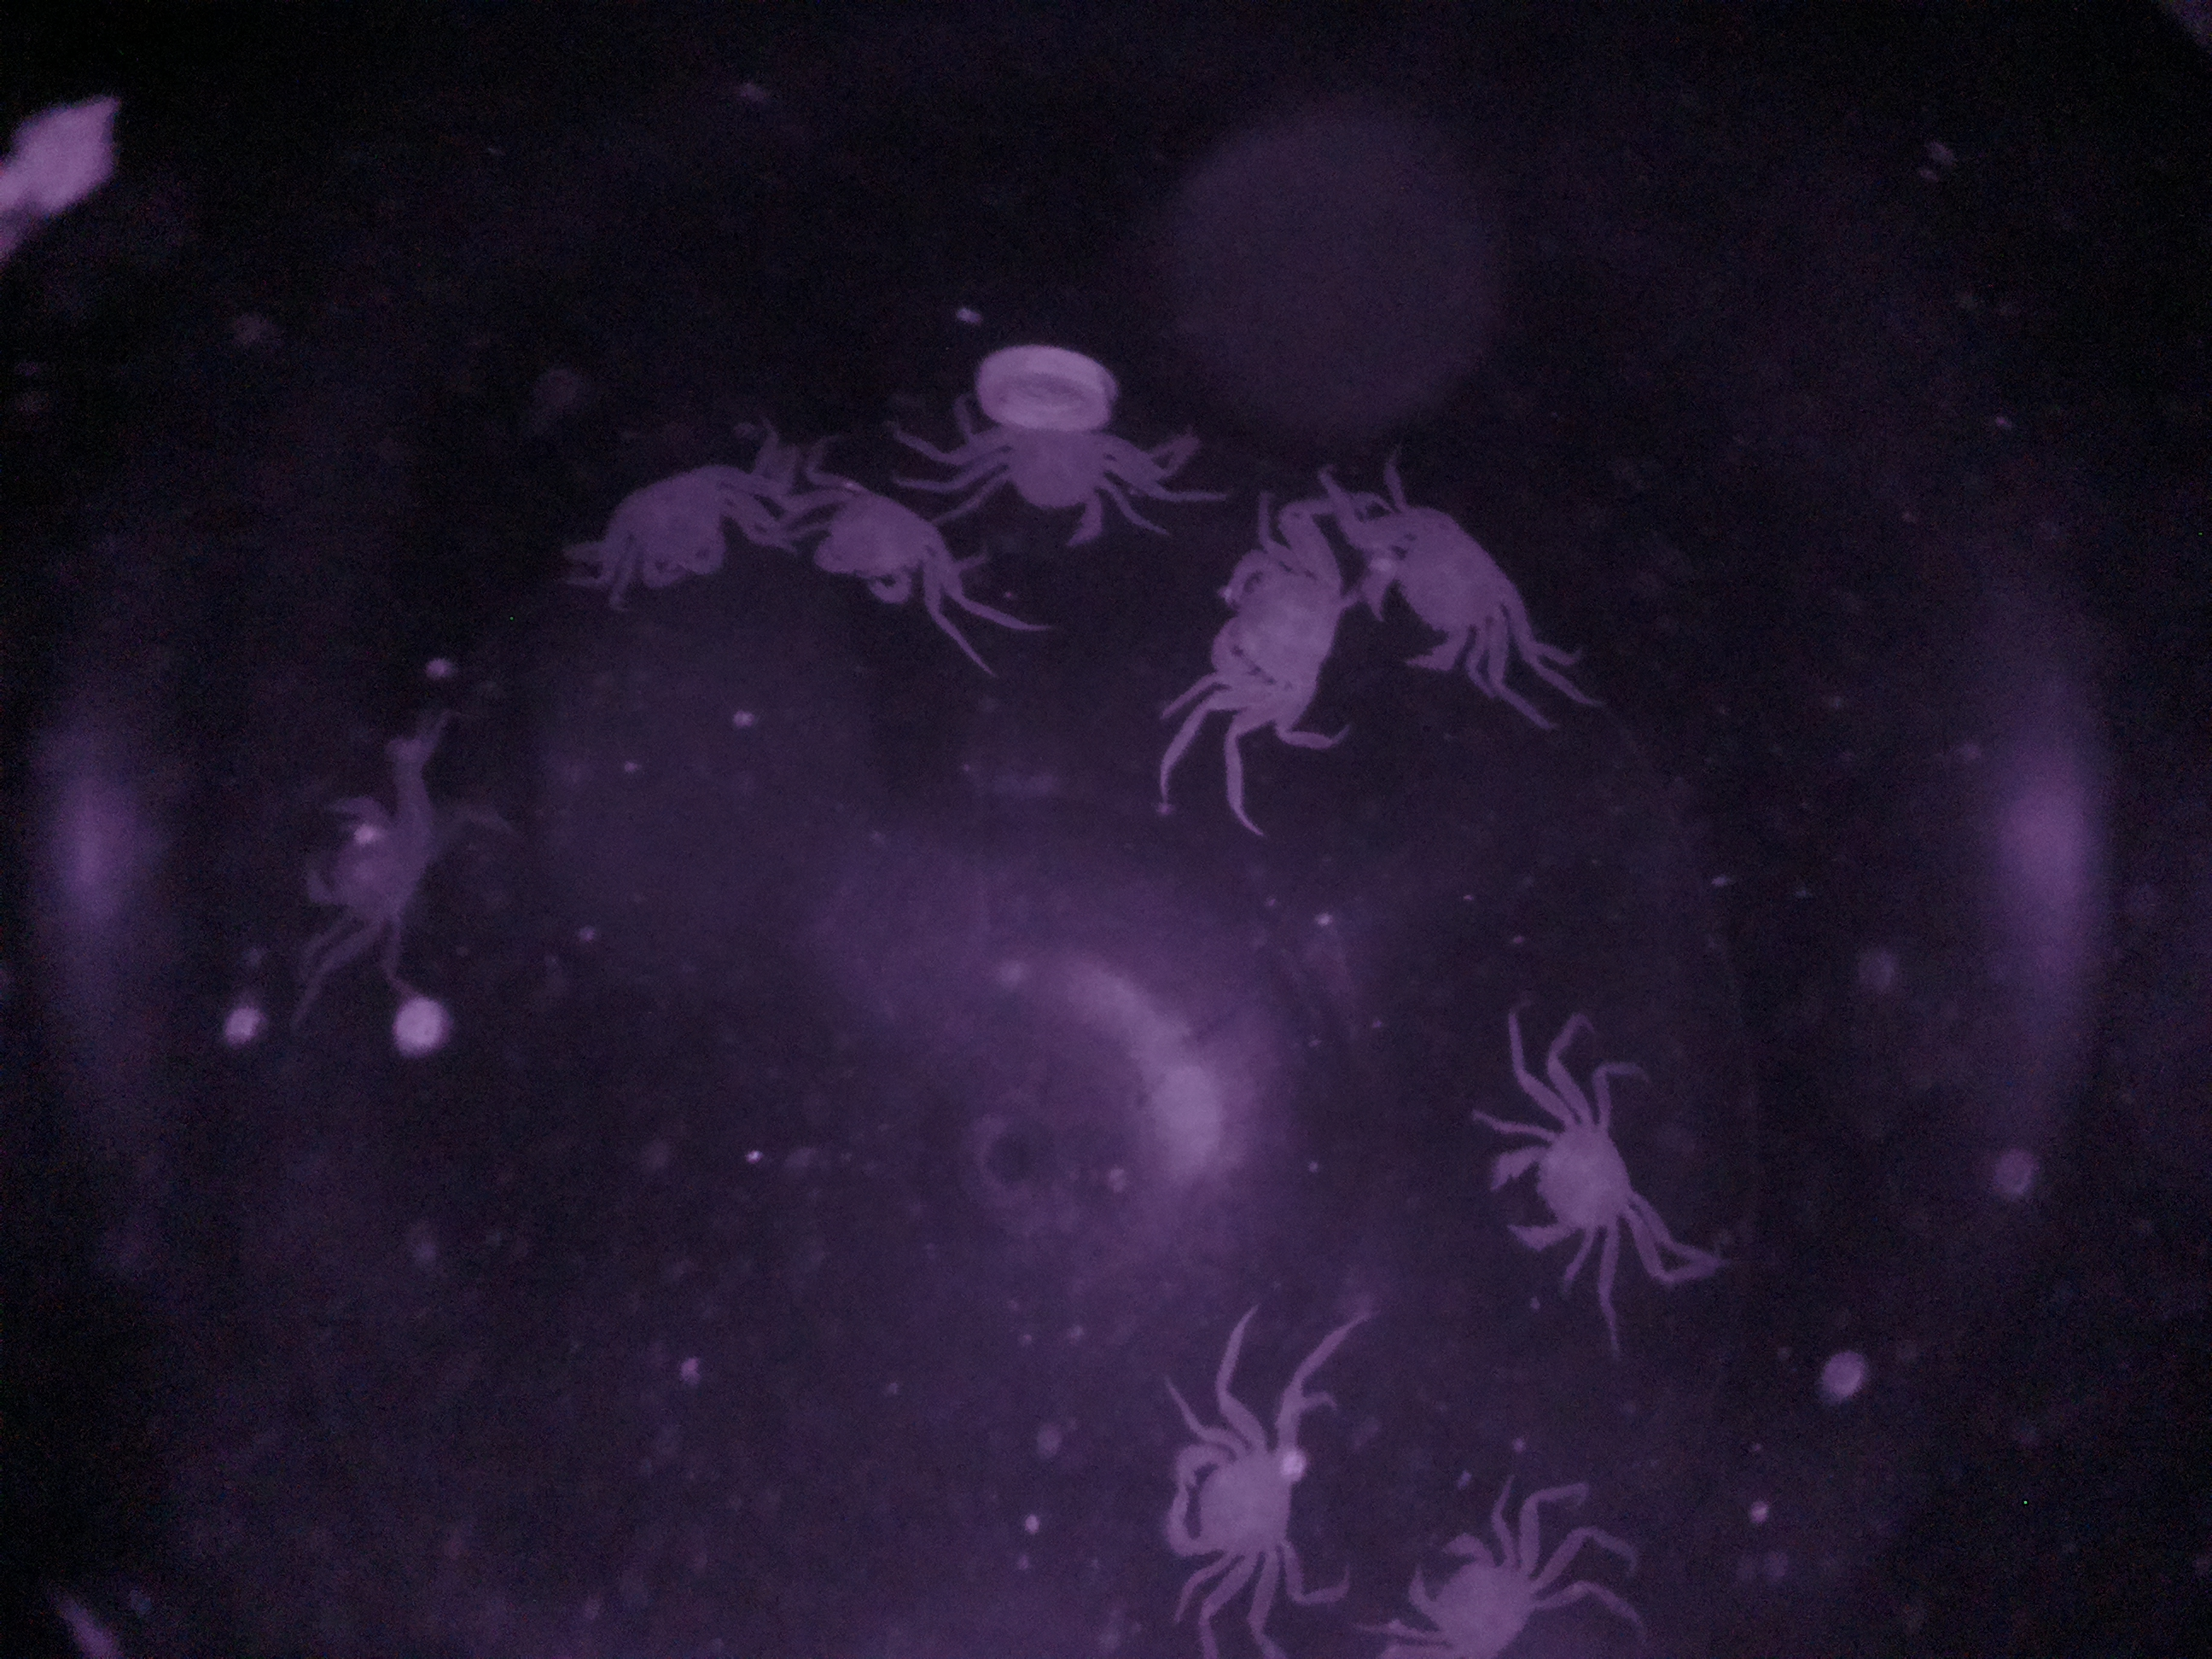Crab: (1341, 462, 1531, 699), (1146, 1380, 1329, 1622), (1479, 1066, 1670, 1291), (1378, 1497, 1557, 1659)
